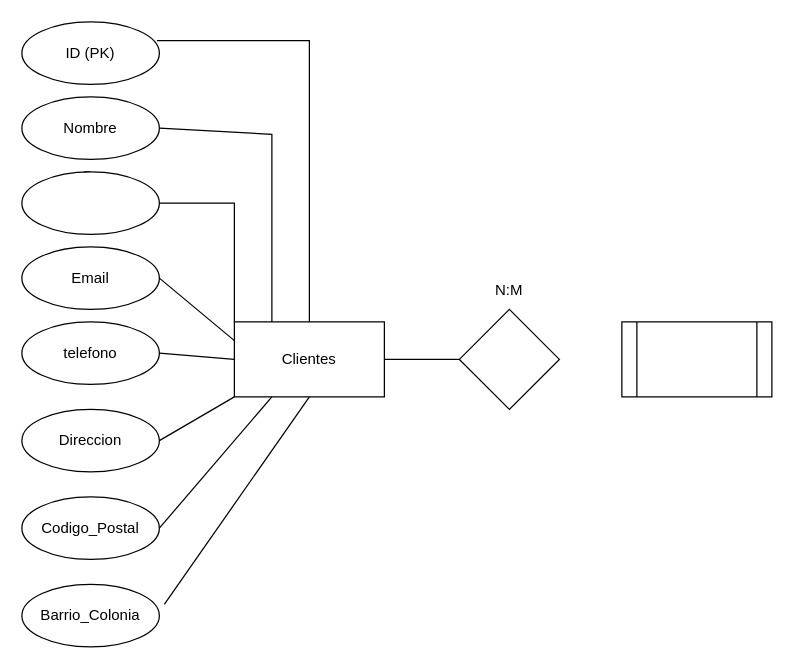
The diagram is 794 pixels wide and 669 high, and some of its shapes have lost their labels. The shapes that lost their labels are listed below. From the top down, each one's box as (x1, y1, x2, y2) in pixels, then its label:
(21, 171, 159, 234): Apellidos
(458, 308, 559, 409): Compra
(621, 321, 772, 397): Productos
